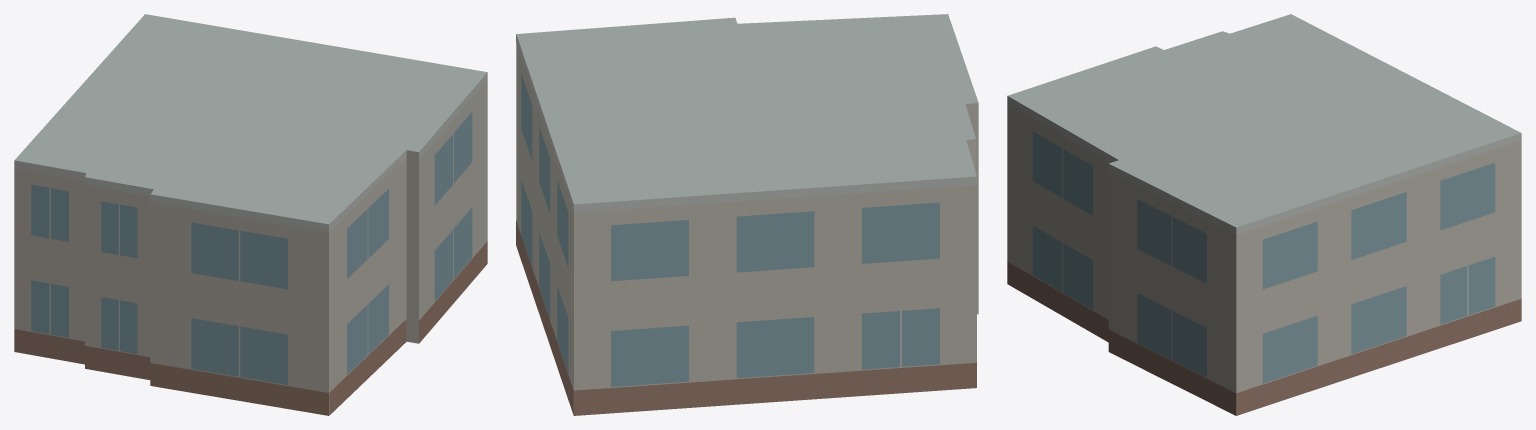
Rendered from survey-upis-32675070.glb.
3 renders of one model, left to right at view 1: azimuth 30°, elevation 25°; view 2: azimuth 150°, elevation 25°; view 3: azimuth 270°, elevation 25°, orthographic. The views are drawn at different scales.
Parts seen in each view (by area): view 1: survey-upis-32675070.tmp; view 2: survey-upis-32675070.tmp; view 3: survey-upis-32675070.tmp.
Part boxes in pixels (x1,y1,x2,y2): survey-upis-32675070.tmp: [14, 14, 487, 415]; survey-upis-32675070.tmp: [516, 14, 978, 415]; survey-upis-32675070.tmp: [1007, 14, 1521, 415].
Size of the model in its own units: 14.85 by 6.1 by 15.11.
